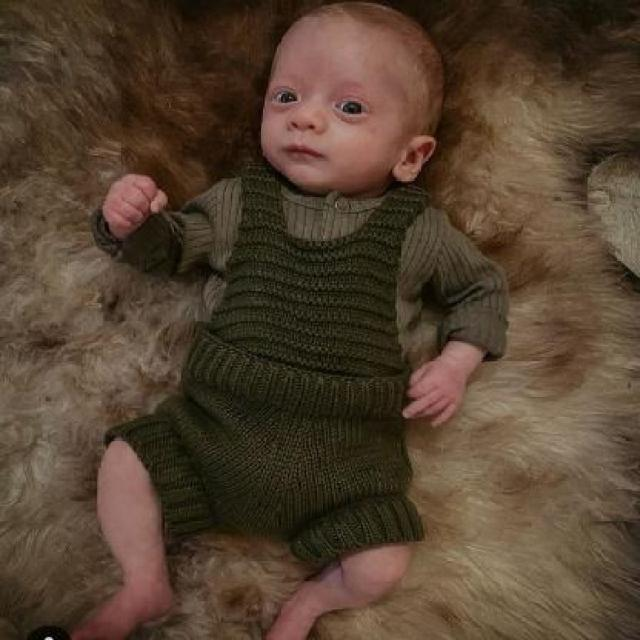baby: (89, 3, 508, 639)
